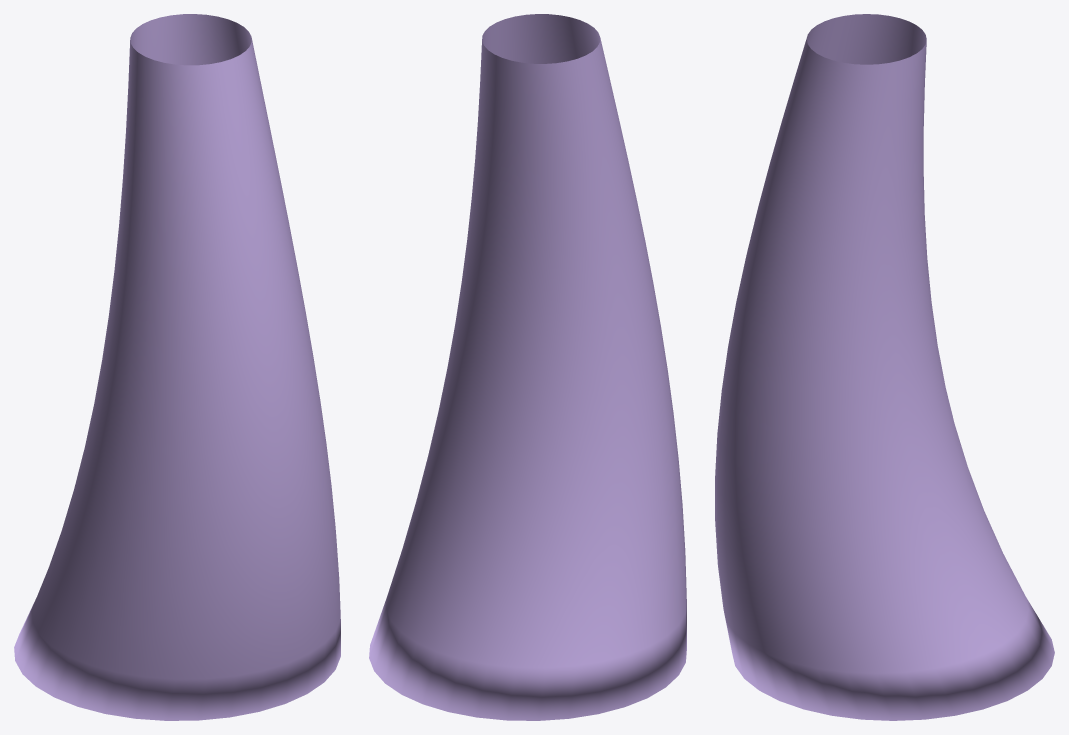
File: Factory.fbx
3 renders of one model, left to right at view 1: azimuth 30°, elevation 25°; view 2: azimuth 150°, elevation 25°; view 3: azimuth 270°, elevation 25°, orthographic. The views are drawn at different scales.
Visible parts, largest first — view 1: Factory; view 2: Factory; view 3: Factory.
Boxes of the visible parts, left/top/right/bottom form: Factory: left=14, top=14, right=340, bottom=720; Factory: left=369, top=14, right=686, bottom=720; Factory: left=715, top=14, right=1054, bottom=720.
Size of the model in its own units: 8 by 16.77 by 8.42.
